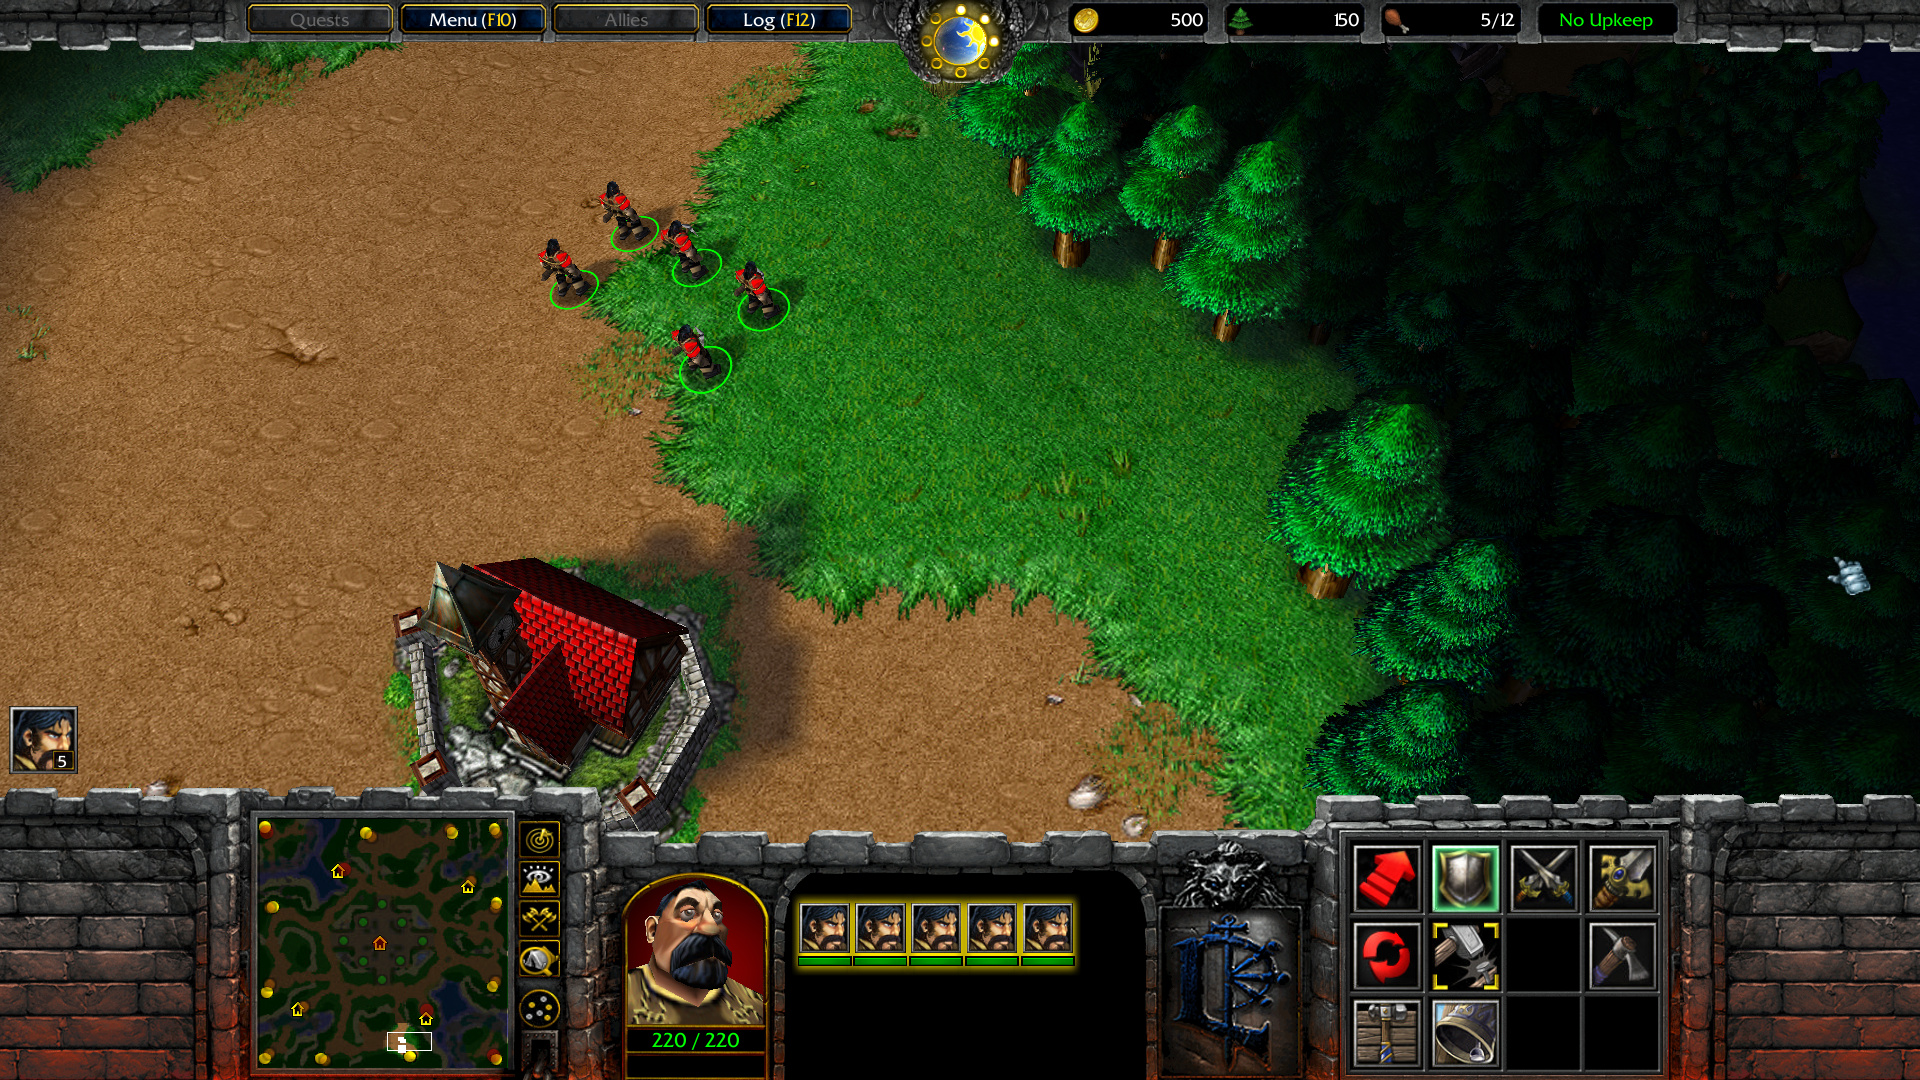Townhall: (381, 553, 749, 846)
